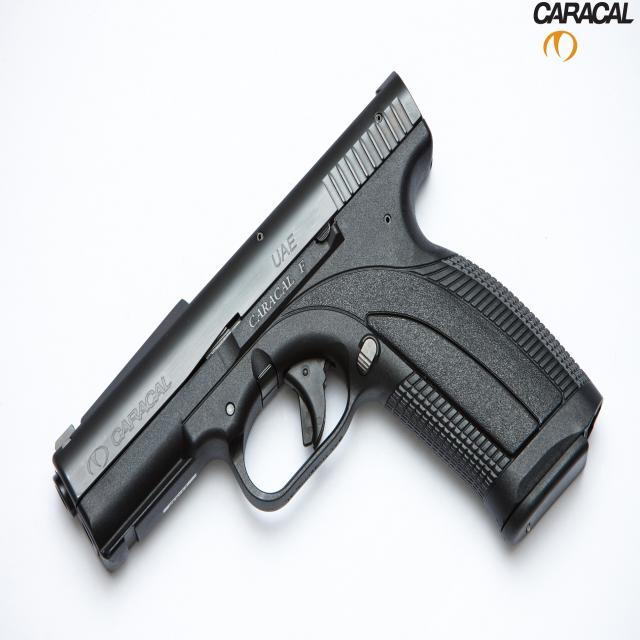Gun: (45, 55, 607, 594)
